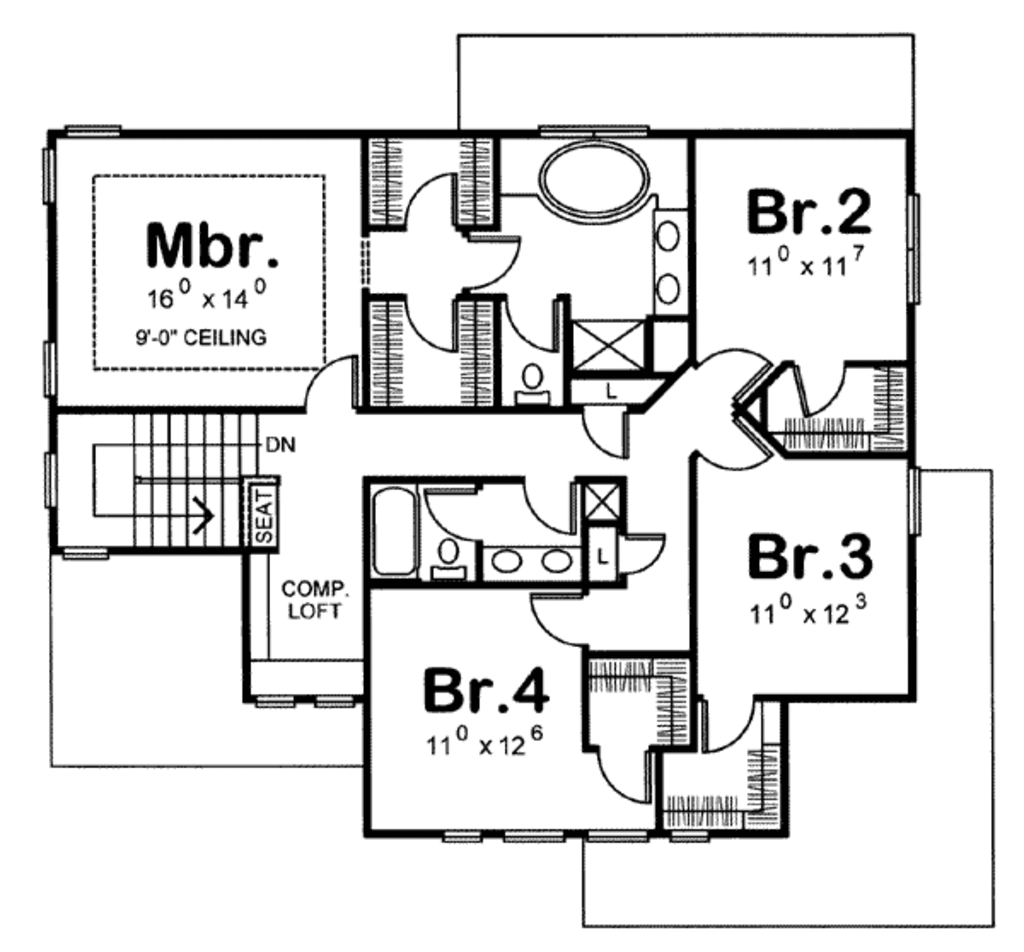door: (693, 418, 781, 475), (520, 468, 587, 540), (523, 587, 598, 650), (499, 287, 570, 353), (299, 346, 362, 415), (792, 357, 858, 421), (590, 743, 656, 806), (695, 691, 761, 753), (428, 490, 496, 550), (464, 222, 518, 296), (703, 343, 771, 400), (408, 168, 464, 231), (403, 291, 456, 353), (581, 404, 634, 465), (618, 537, 671, 588)
large_sink: (428, 528, 473, 584), (512, 362, 556, 412)
small_sink: (655, 212, 692, 321), (484, 548, 580, 587)
stairs: (52, 415, 284, 556)
tub: (531, 131, 668, 228), (365, 482, 418, 579)
window: (899, 191, 925, 304), (542, 121, 662, 141), (902, 463, 928, 538), (659, 815, 715, 848), (37, 341, 64, 403), (39, 147, 67, 203), (62, 121, 133, 141), (249, 690, 303, 713), (503, 826, 571, 844), (317, 694, 362, 718), (592, 828, 656, 844), (439, 826, 489, 843)
